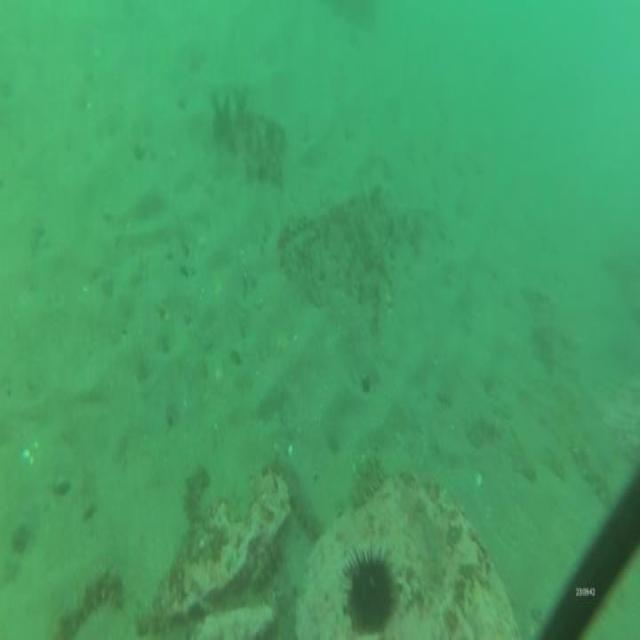echinus: (334, 540, 406, 638)
holothurian: (57, 560, 123, 630), (278, 455, 326, 547), (348, 450, 386, 506), (182, 461, 211, 528)
